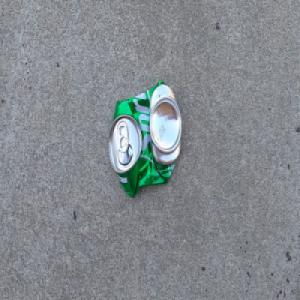SodaCan: (107, 78, 183, 200)
